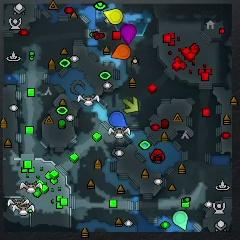p1: (109, 111, 127, 127)
p2: (174, 211, 188, 230)
p3: (121, 24, 137, 43)
p4: (104, 9, 123, 24)
p5: (112, 44, 131, 60)
x2: (124, 97, 139, 113)
